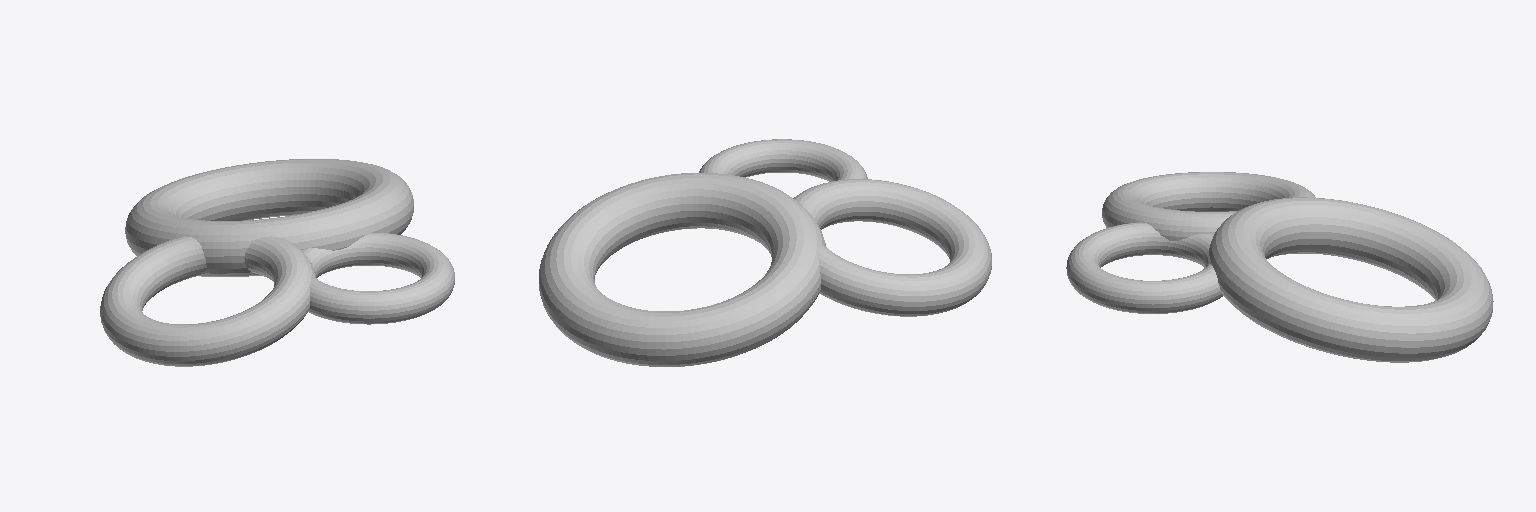
The model's file is donut.obj.
The picture shows the model from 3 angles: view 1: azimuth 30°, elevation 25°; view 2: azimuth 150°, elevation 25°; view 3: azimuth 270°, elevation 25°; orthographic projection.
Parts seen in each view (by area): view 1: Torus.001, Torus.002, Torus; view 2: Torus.001, Torus.002, Torus; view 3: Torus.001, Torus, Torus.002.
Part boxes in pixels (x1,y1,x2,y2): Torus.001: (125, 159, 413, 276); Torus.002: (100, 236, 315, 366); Torus: (302, 232, 454, 324); Torus.001: (539, 173, 825, 366); Torus.002: (793, 179, 991, 316); Torus: (699, 139, 867, 181); Torus.001: (1209, 197, 1493, 362); Torus: (1066, 222, 1222, 313); Torus.002: (1102, 172, 1315, 240).
Bounding box in the file's own units: 39.01 × 10.29 × 41.19.